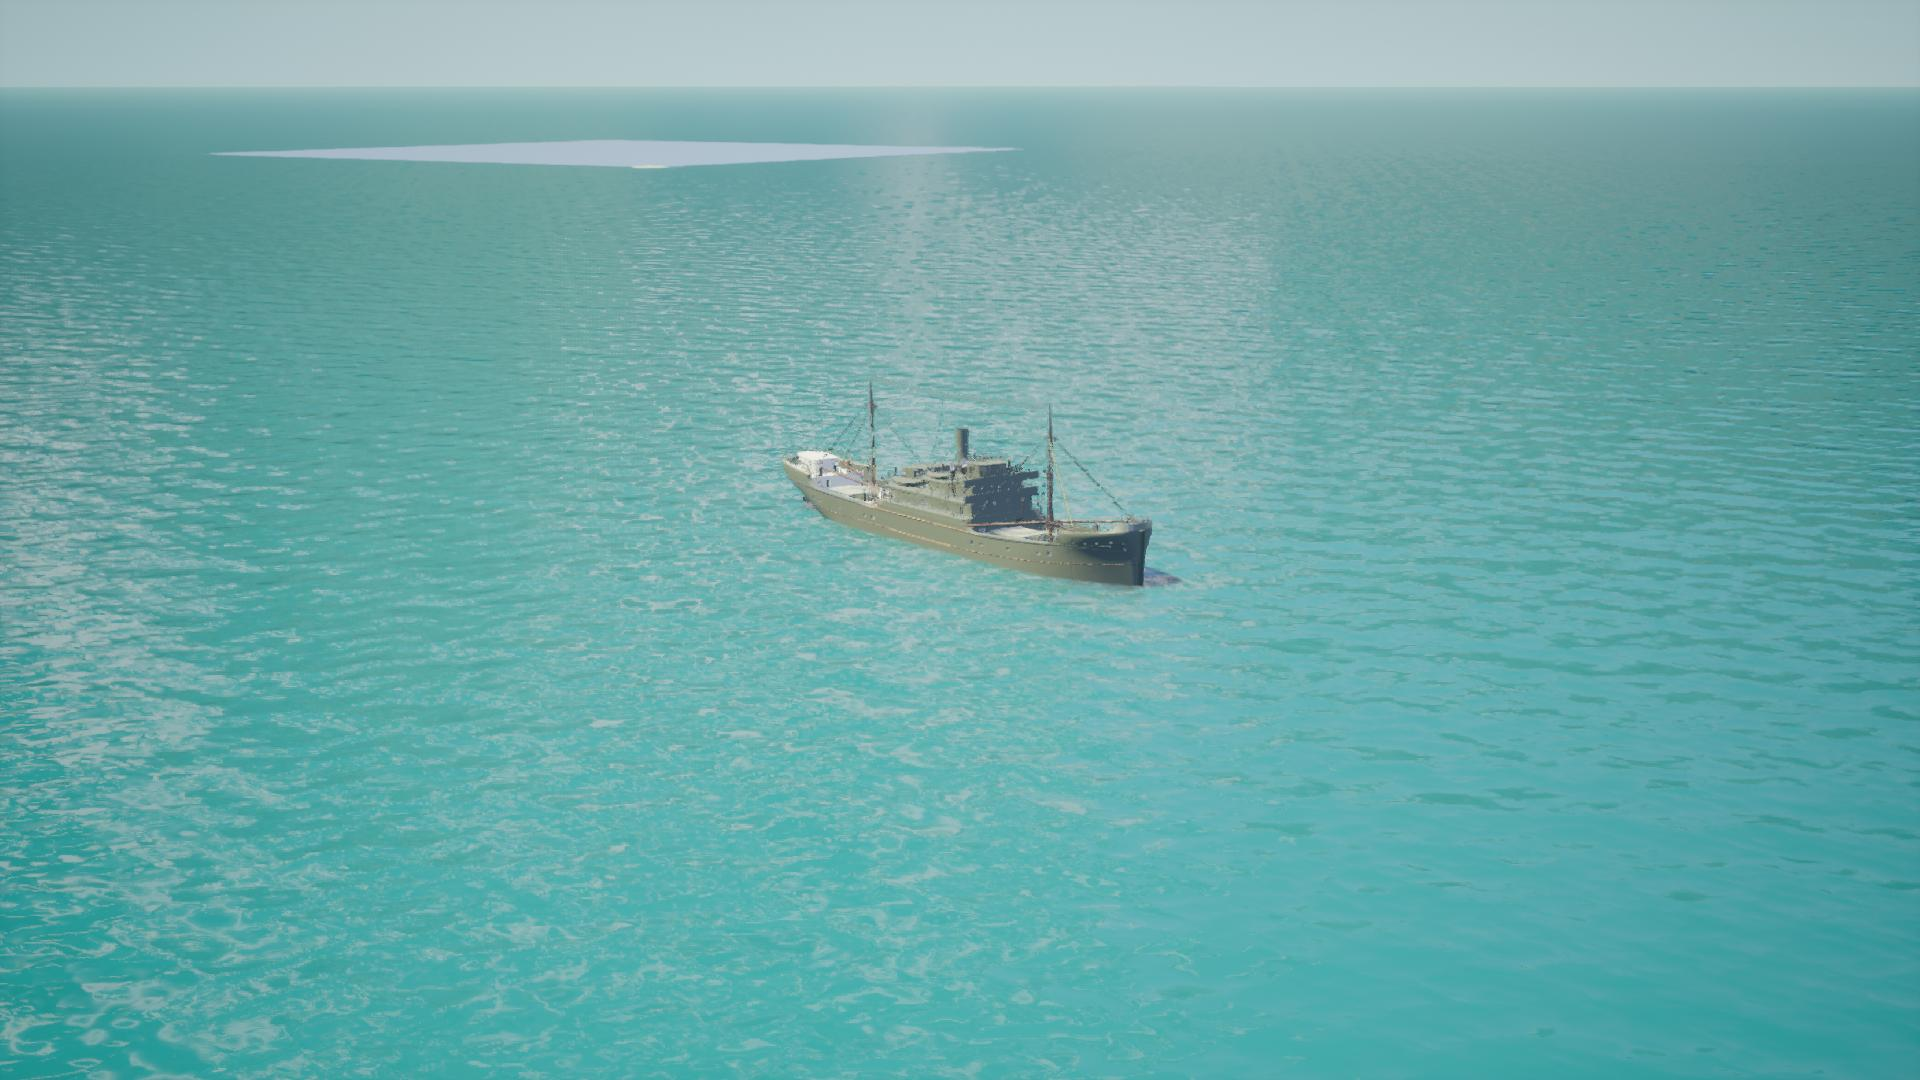Fishing Boat: (778, 438, 1158, 592)
